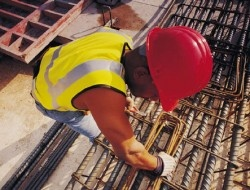red: (128, 25, 213, 112)
